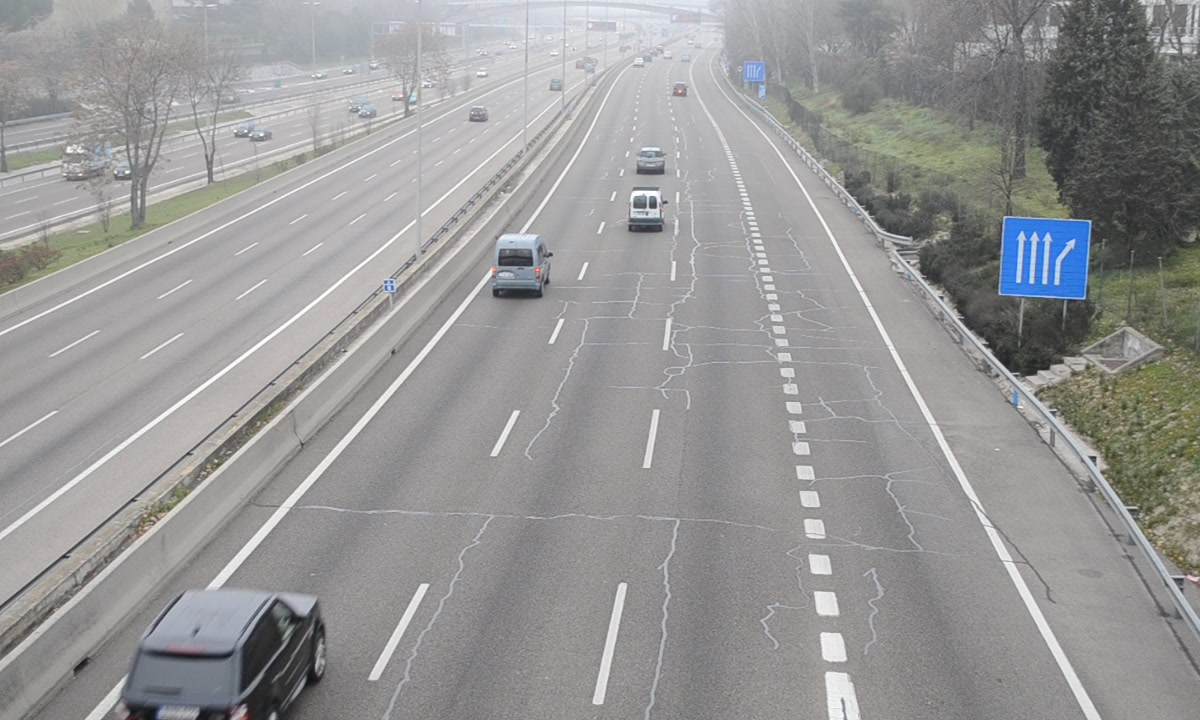car: (113, 589, 325, 717), (635, 146, 666, 174)
van: (491, 233, 552, 295), (628, 184, 666, 234)
